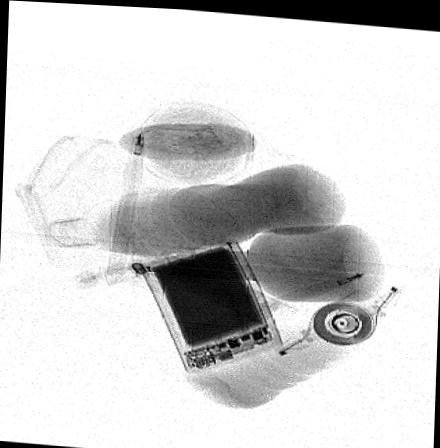Powerbank: (136, 235, 285, 372)
